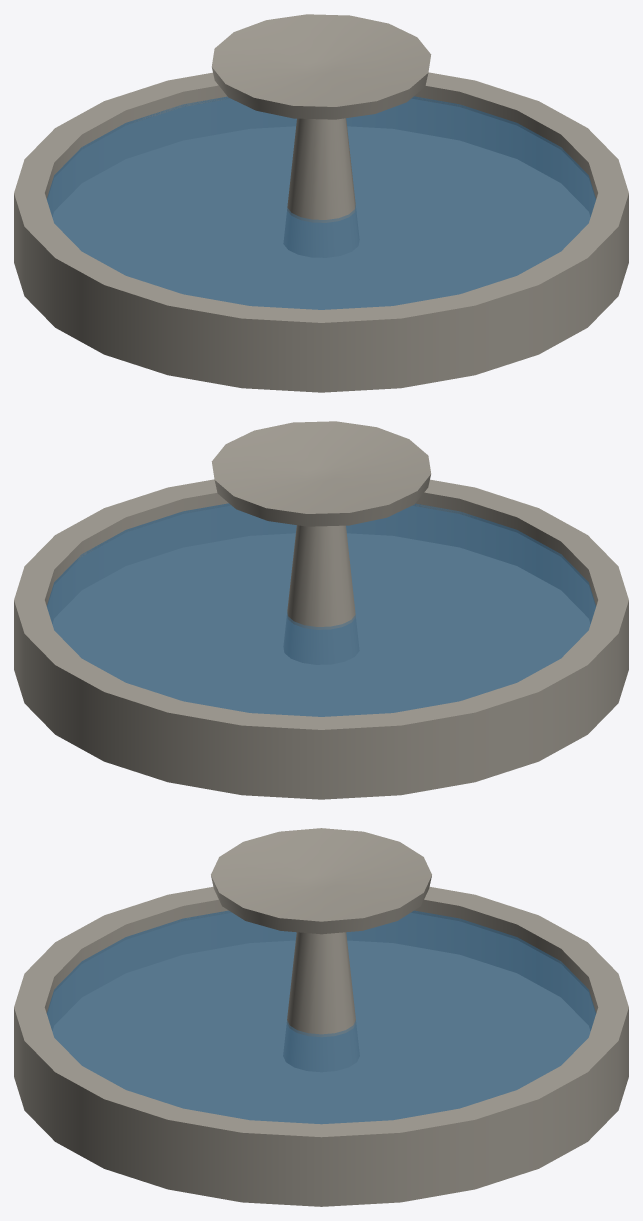
Rendered from street.furniture.fountain.glb.
3 renders of one model, top to bottom at view 1: azimuth 30°, elevation 25°; view 2: azimuth 150°, elevation 25°; view 3: azimuth 270°, elevation 25°, orthographic.
Visible parts, largest first — view 1: main__paving, main__water; view 2: main__paving, main__water; view 3: main__paving, main__water.
Boxes of the visible parts, x1=… form: main__paving: x1=14, y1=14, x2=628, y2=392; main__water: x1=46, y1=96, x2=596, y2=309; main__paving: x1=14, y1=421, x2=628, y2=799; main__water: x1=46, y1=503, x2=596, y2=716; main__paving: x1=14, y1=828, x2=628, y2=1206; main__water: x1=46, y1=910, x2=596, y2=1124.
Bounding box in the file's own units: 4 × 1.45 × 4.
